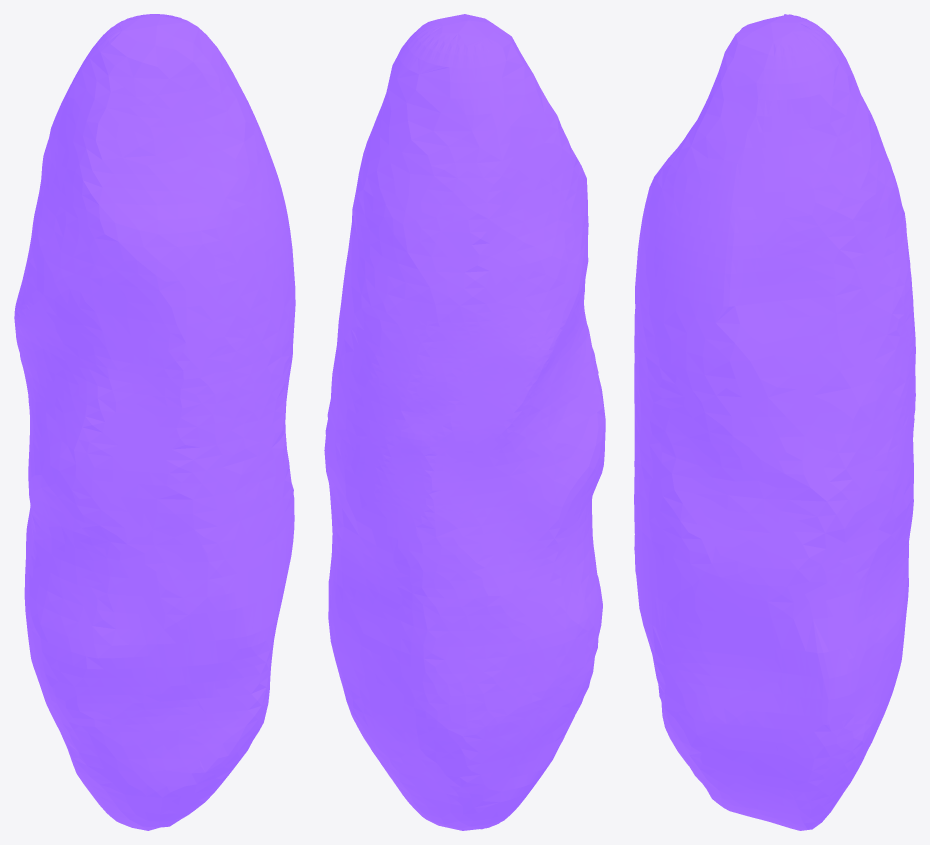
File: Shard6.fbx
The picture shows the model from 3 angles, left to right: view 1: azimuth 30°, elevation 25°; view 2: azimuth 150°, elevation 25°; view 3: azimuth 270°, elevation 25°; orthographic projection.
Visible parts, largest first — view 1: Shard6; view 2: Shard6; view 3: Shard6.
Boxes of the visible parts, <box> form: Shard6: <box>14,14,295,830</box>; Shard6: <box>324,14,605,830</box>; Shard6: <box>634,14,915,830</box>.
Bounding box in the file's own units: 192 × 618 × 196.
